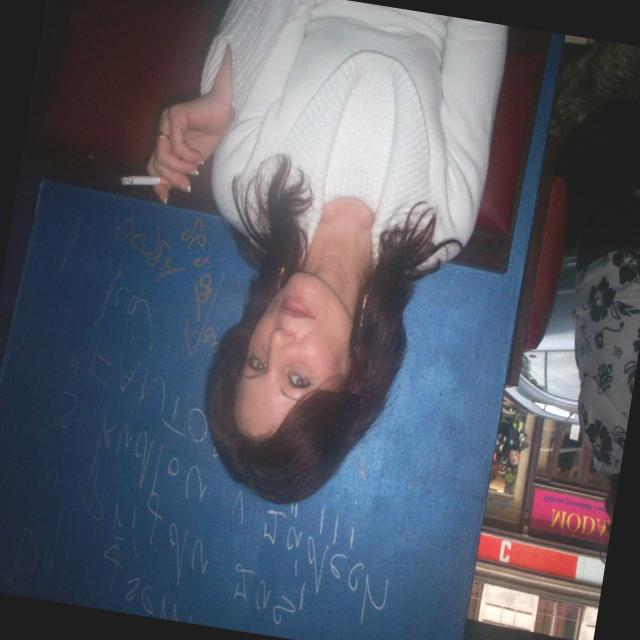cigarette: (112, 149, 186, 204)
